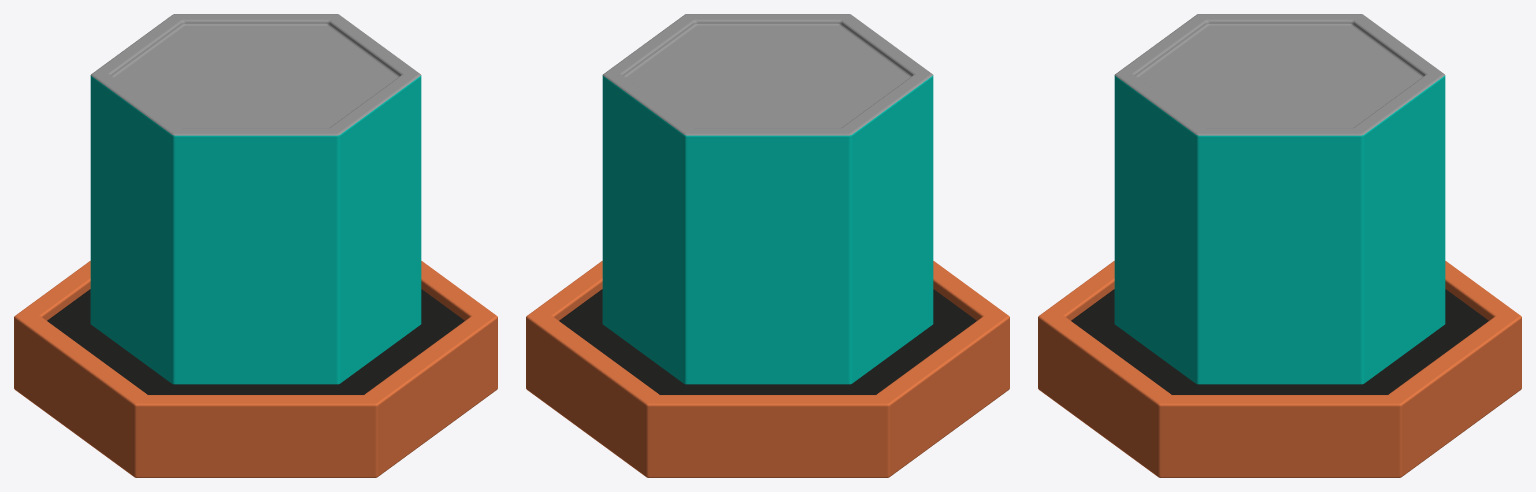
File: blok2.fbx
The picture shows the model from 3 angles, left to right: view 1: azimuth 30°, elevation 25°; view 2: azimuth 150°, elevation 25°; view 3: azimuth 270°, elevation 25°; orthographic projection.
Parts seen in each view (by area): view 1: Circle; view 2: Circle; view 3: Circle.
Boxes of the visible parts, bbox=[...] form: Circle: bbox=[14, 14, 497, 477]; Circle: bbox=[526, 14, 1009, 477]; Circle: bbox=[1038, 14, 1521, 477].
Bounding box in the file's own units: 173 × 144 × 200.
